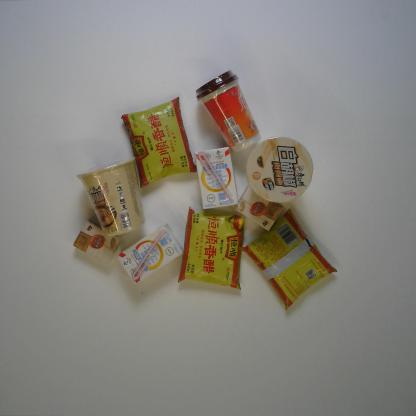Instant Drink: (196, 69, 262, 155)
Instant Noodles: (76, 156, 144, 238), (246, 136, 314, 204)
Milk: (115, 223, 184, 286), (194, 146, 239, 210)
Seasoner: (238, 208, 338, 312), (120, 96, 198, 189), (177, 206, 245, 292)
Tissue: (232, 184, 284, 232), (71, 218, 122, 264)
